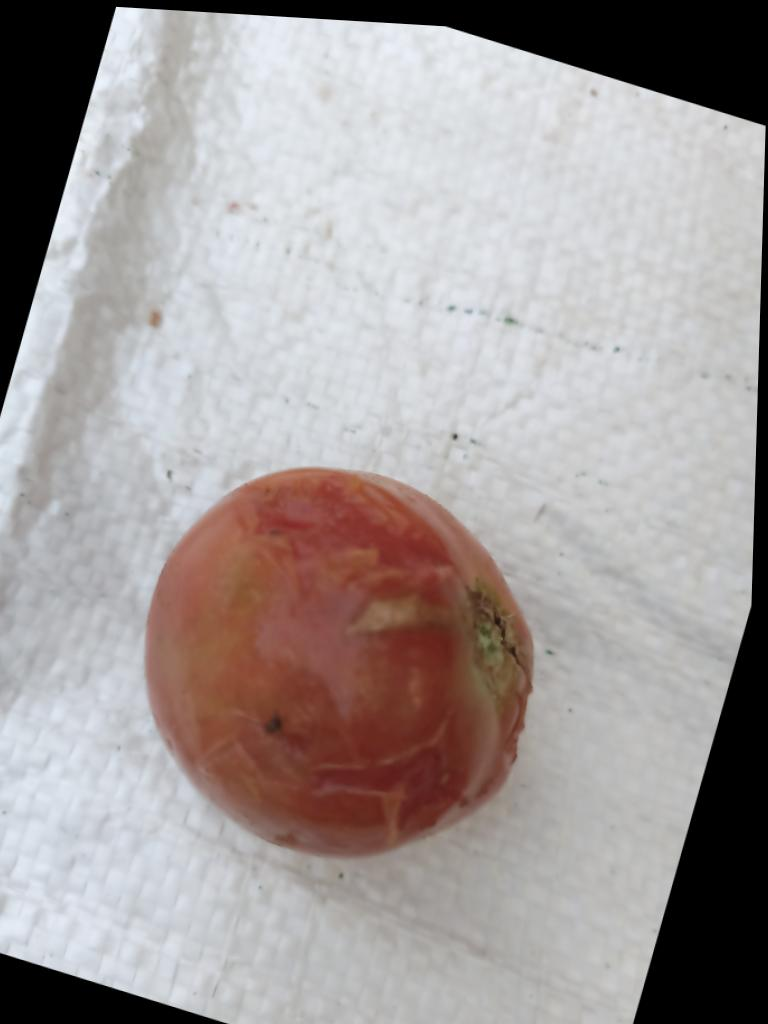bruise_discoloration: (166, 716, 485, 857), (223, 468, 450, 604)
surface_damage: (348, 594, 449, 634)
tomato: (146, 468, 533, 856)
